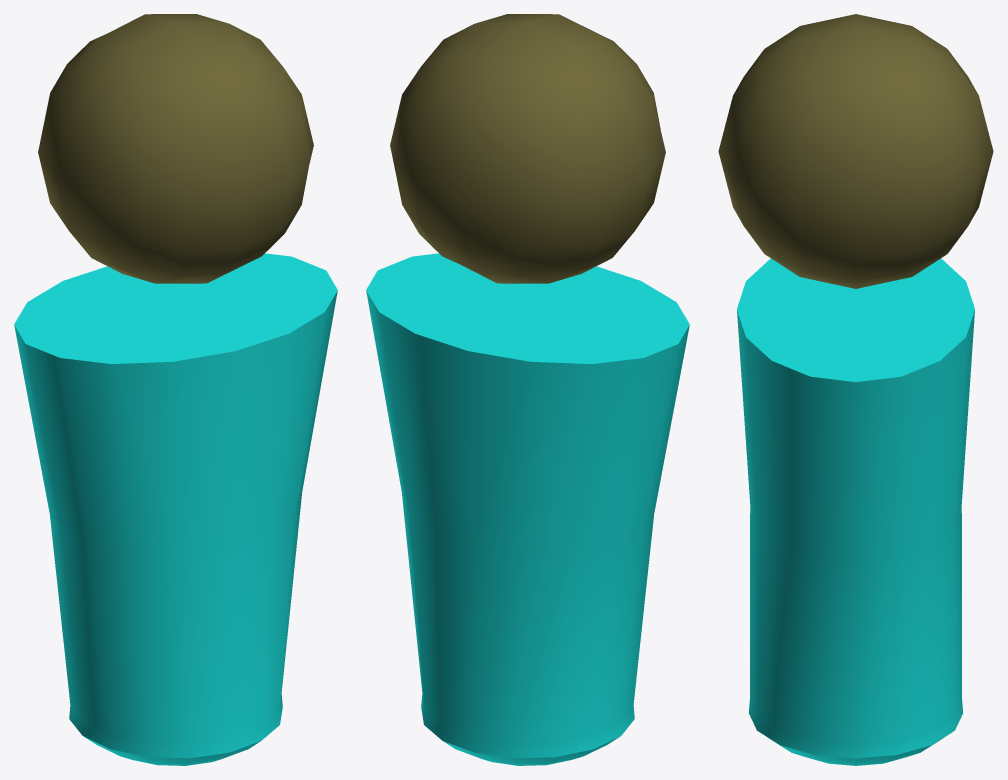
The model's file is Personagem7.fbx.
The picture shows the model from 3 angles, left to right: view 1: azimuth 30°, elevation 25°; view 2: azimuth 150°, elevation 25°; view 3: azimuth 270°, elevation 25°; orthographic projection.
Visible parts, largest first — view 1: Sphere.005; view 2: Sphere.005; view 3: Sphere.005.
Boxes of the visible parts, x1,y1,x2,y2 form: Sphere.005: (14,14,337,765); Sphere.005: (366,14,689,765); Sphere.005: (718,14,993,765).
Bounding box in the file's own units: 268 × 618 × 213.
